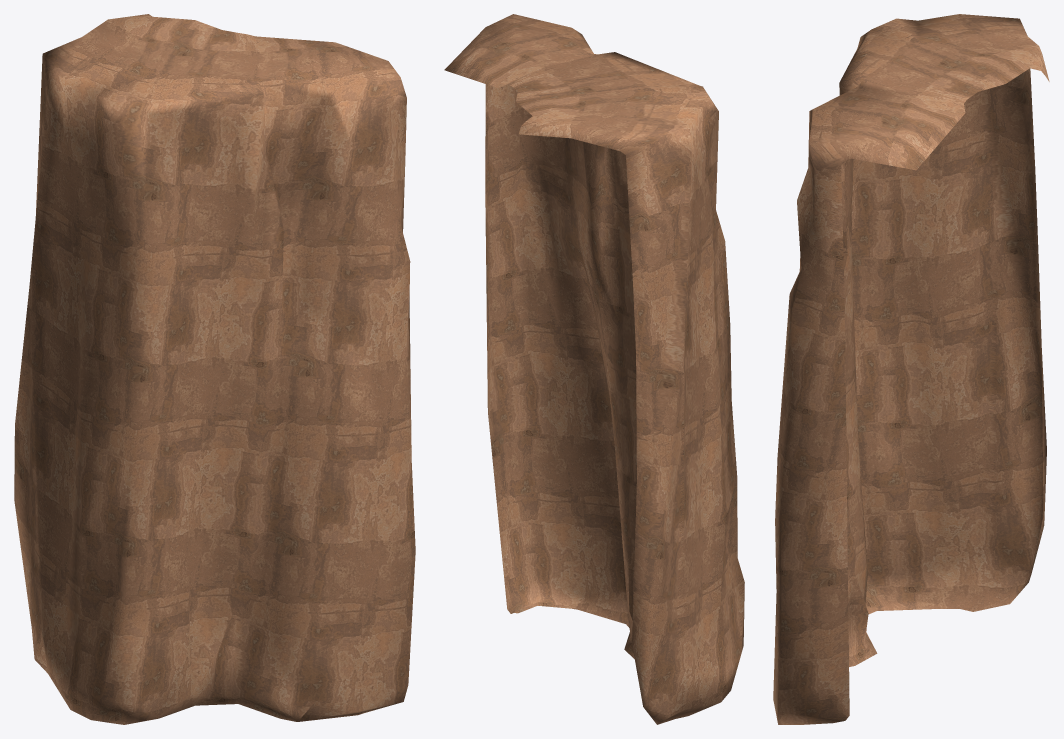
File: Ob_RockCliff07.fbx
3 views of the same model, side by side, from view 1: azimuth 30°, elevation 25°; view 2: azimuth 150°, elevation 25°; view 3: azimuth 270°, elevation 25° (orthographic). The views are drawn at different scales.
Visible parts, largest first — view 1: Ob_RockCliff07; view 2: Ob_RockCliff07; view 3: Ob_RockCliff07.
Part boxes in pixels (left/top/right/bottom): Ob_RockCliff07: left=14, top=14, right=415, bottom=724; Ob_RockCliff07: left=444, top=14, right=744, bottom=724; Ob_RockCliff07: left=773, top=14, right=1049, bottom=724.
Bounding box in the file's own units: 38432 × 79395 × 32691.
